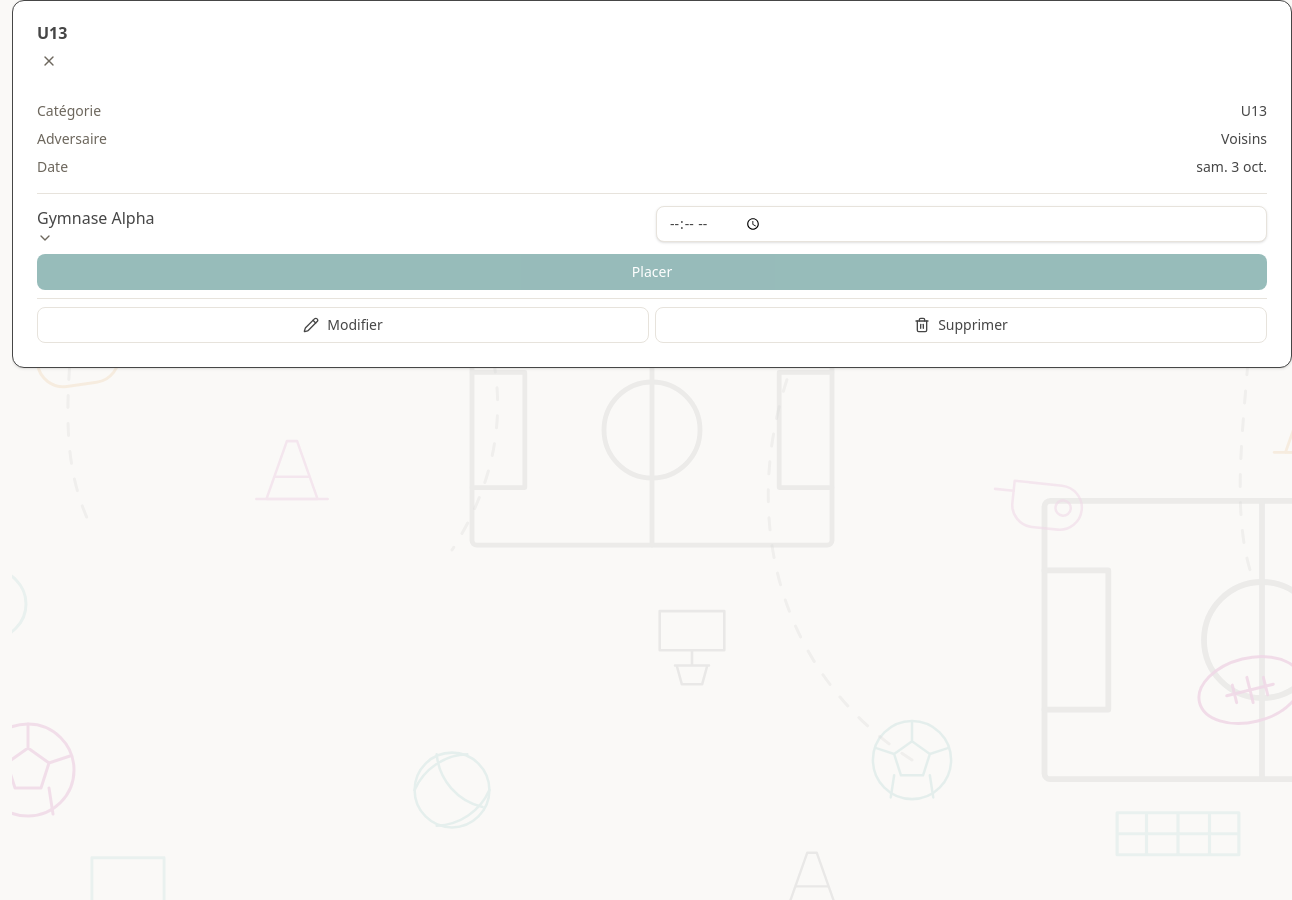
Test: PlacementPanel › only offers match venues once the club declared windows, and blocks outside them
The width and height of the screenshot is (1292, 900).
Click the button "Gymnase Alpha" at (96,226), box [37,206,154,246]
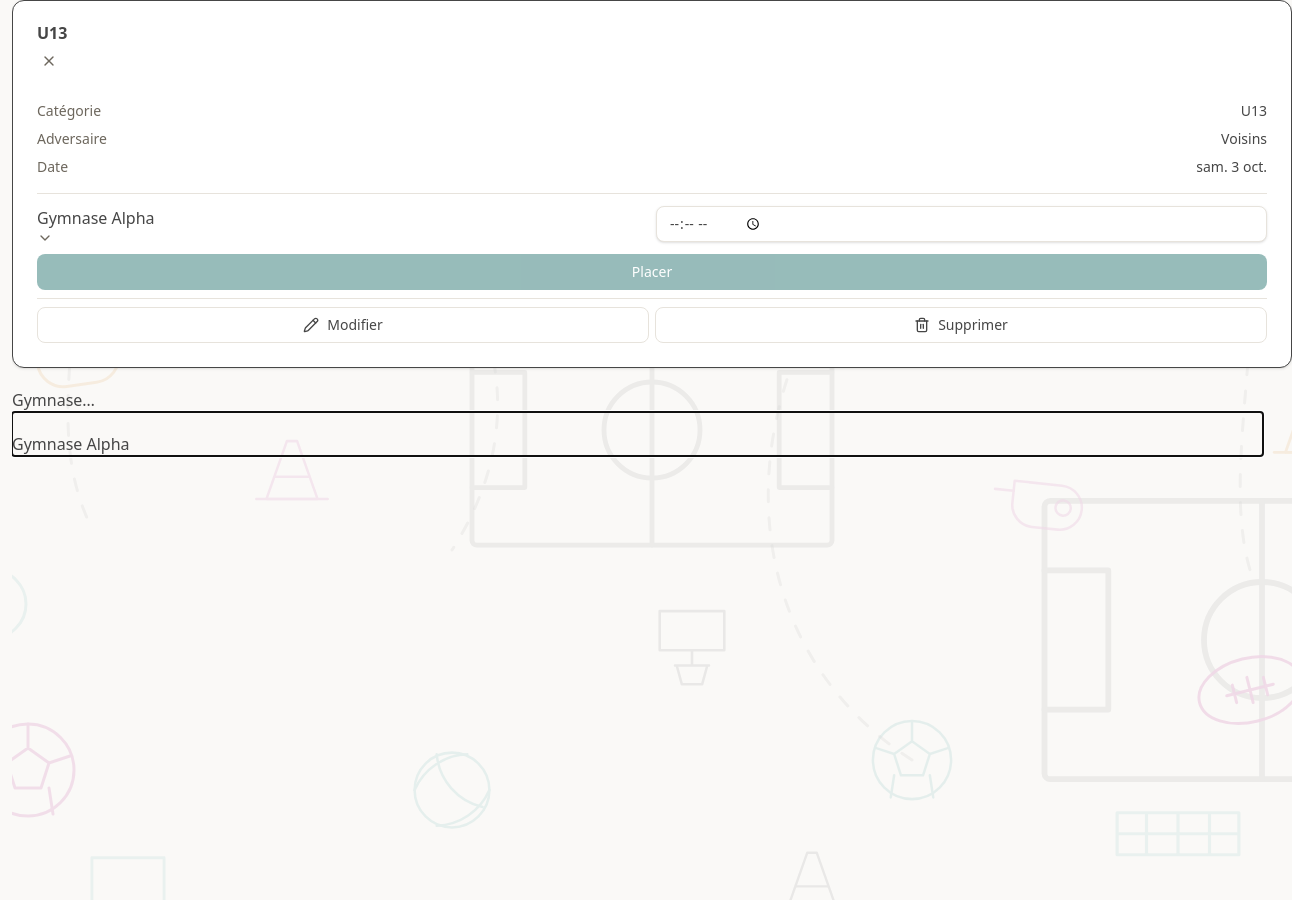
Click the option "Gymnase Alpha" at (71,444), box [12,433,130,455]
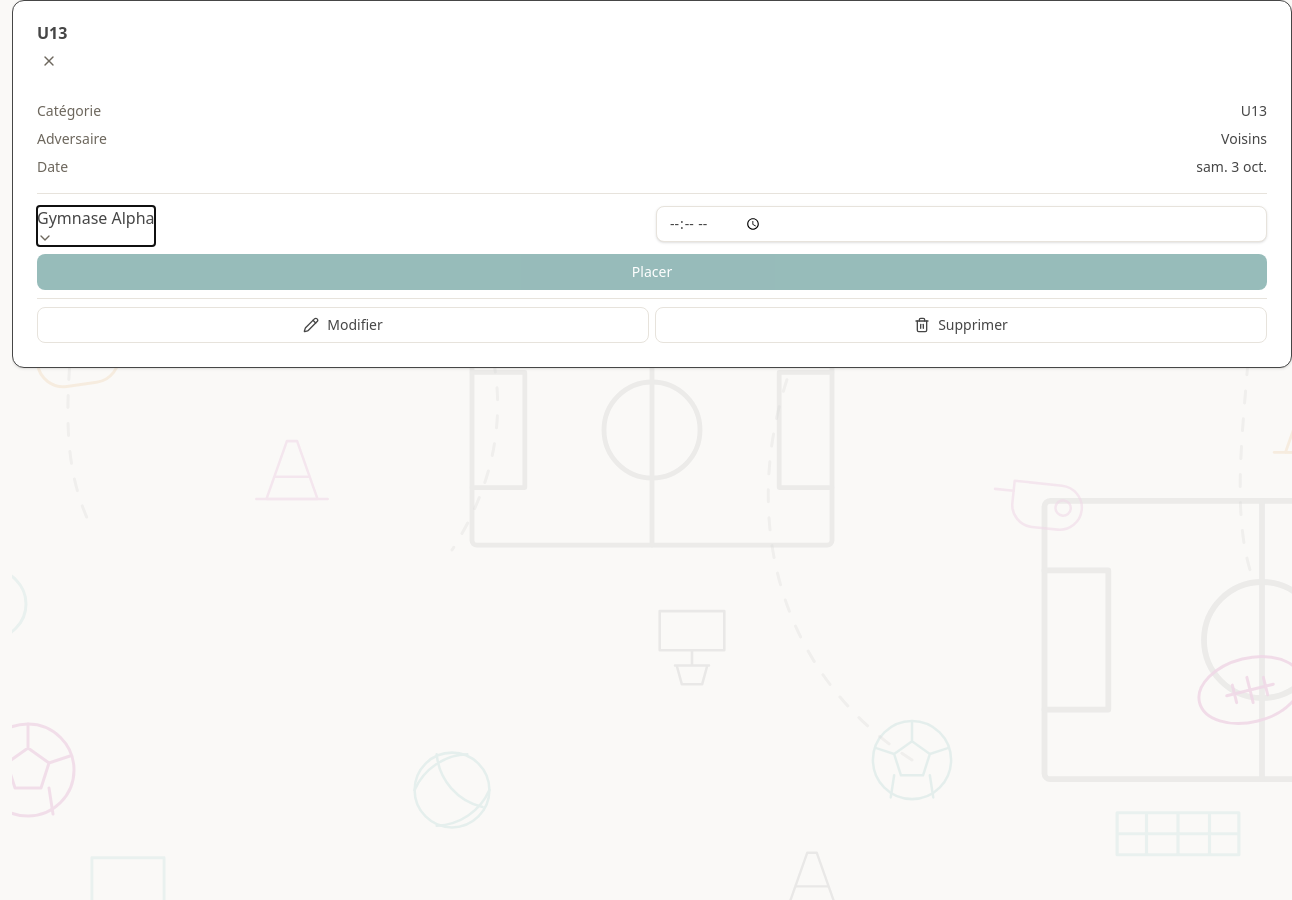
Type "20:00" into the time field named "Heure de coup d'envoi" at (962,224), box [656,206,1267,242]
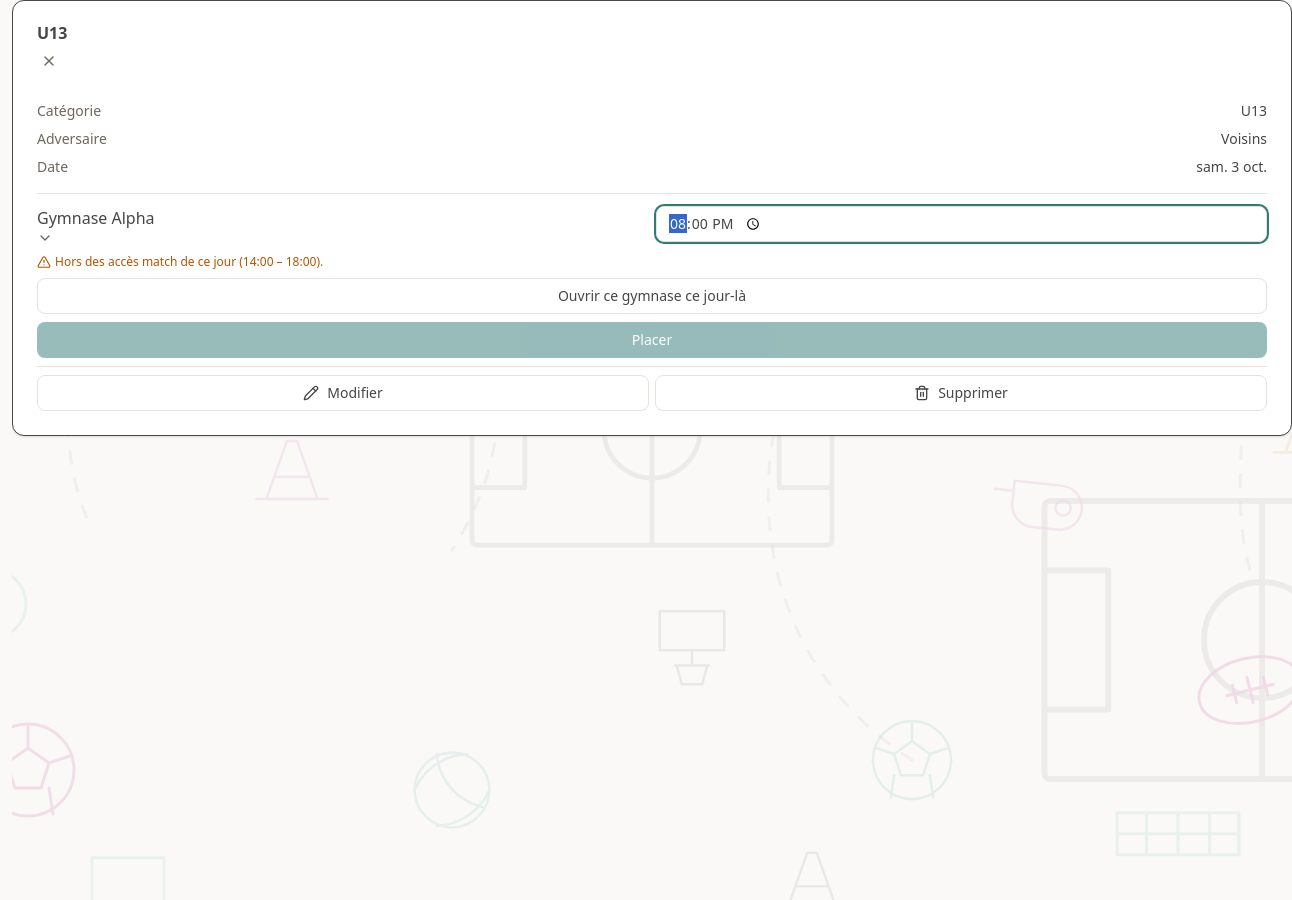
expect the button "Placer" is disabled: met, box [37,322,1267,358]
expect the text "Hors des accès match de ce jour (14:00 – 18:00)." is shown: met, box [37,253,323,270]
